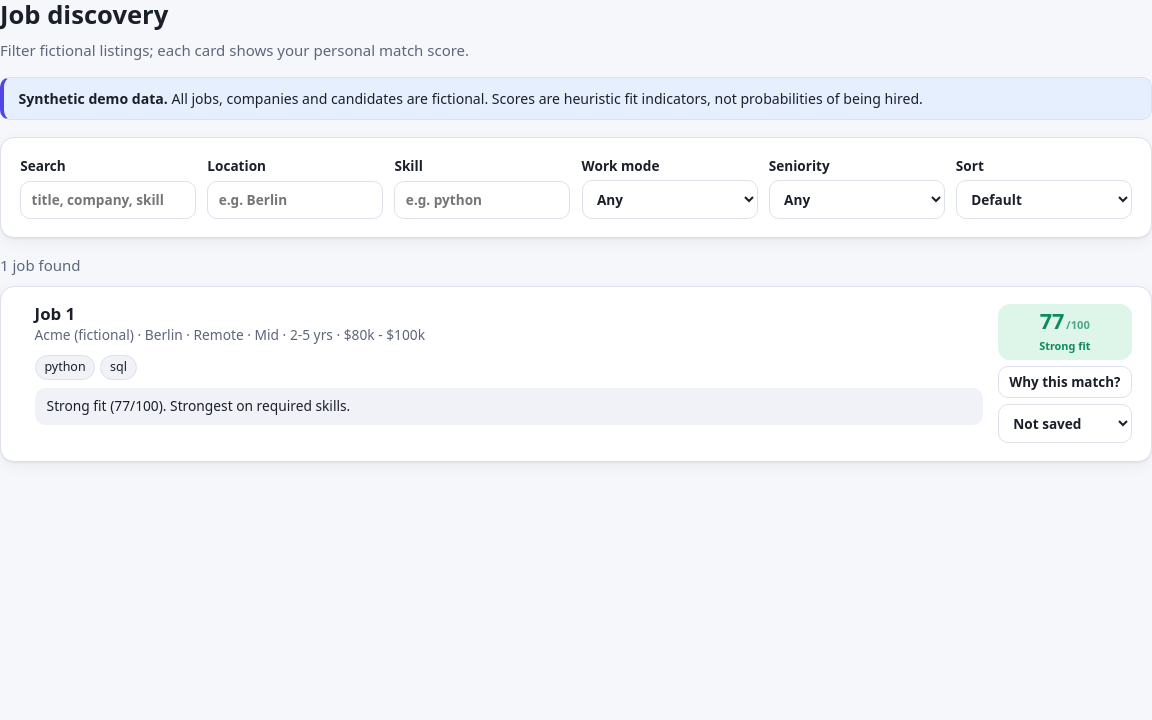
Test: Jobs page › opens a match explanation dialog
Click the button "Why this match?".
click(1065, 382)  # box [998,366,1132,398]
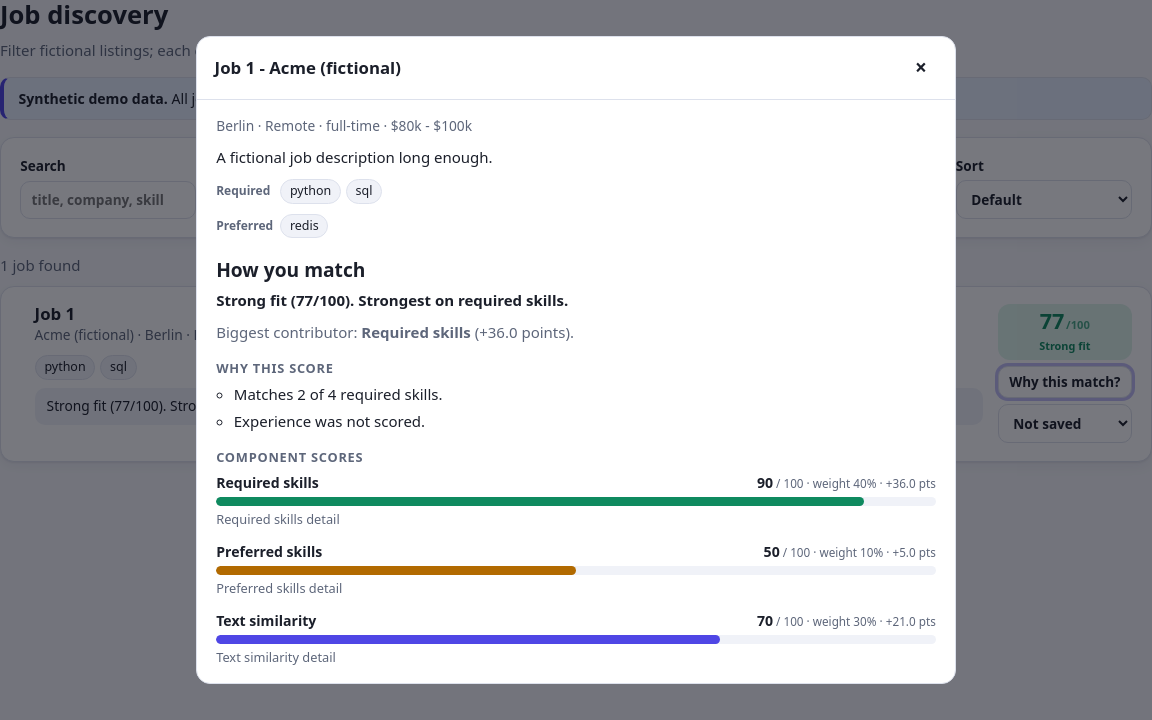
Now the heading "Why this score" is shown, box [216,359,334,377]
Press Escape
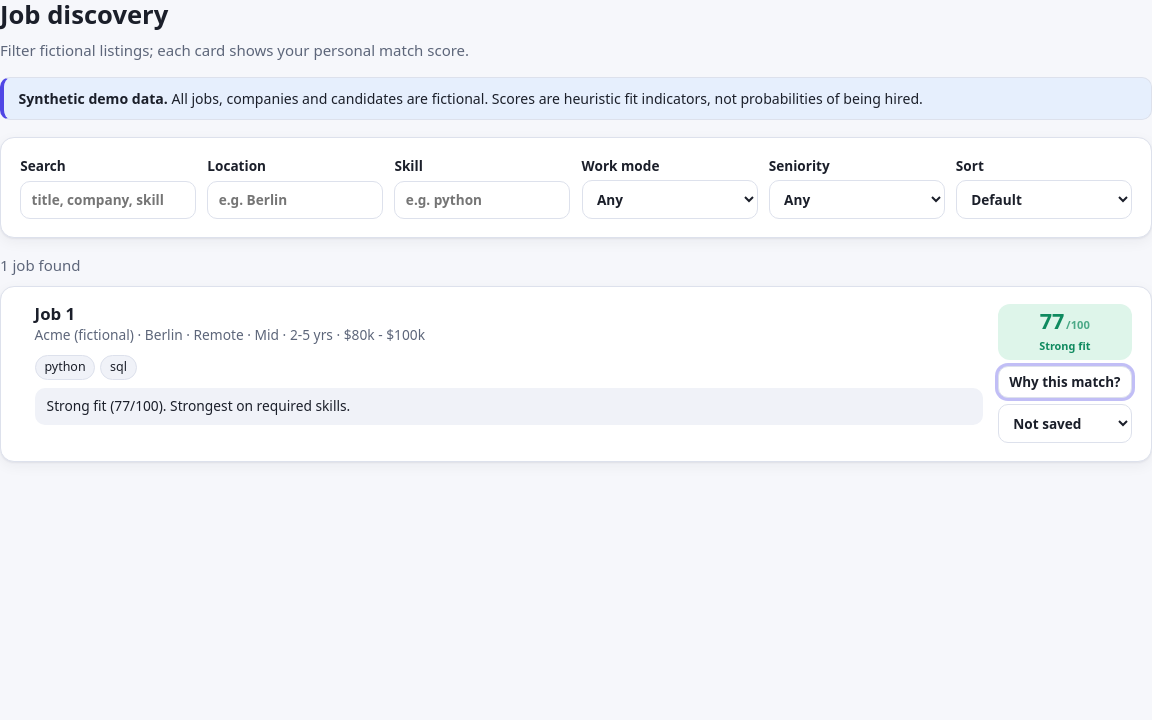
Now the dialog is gone
